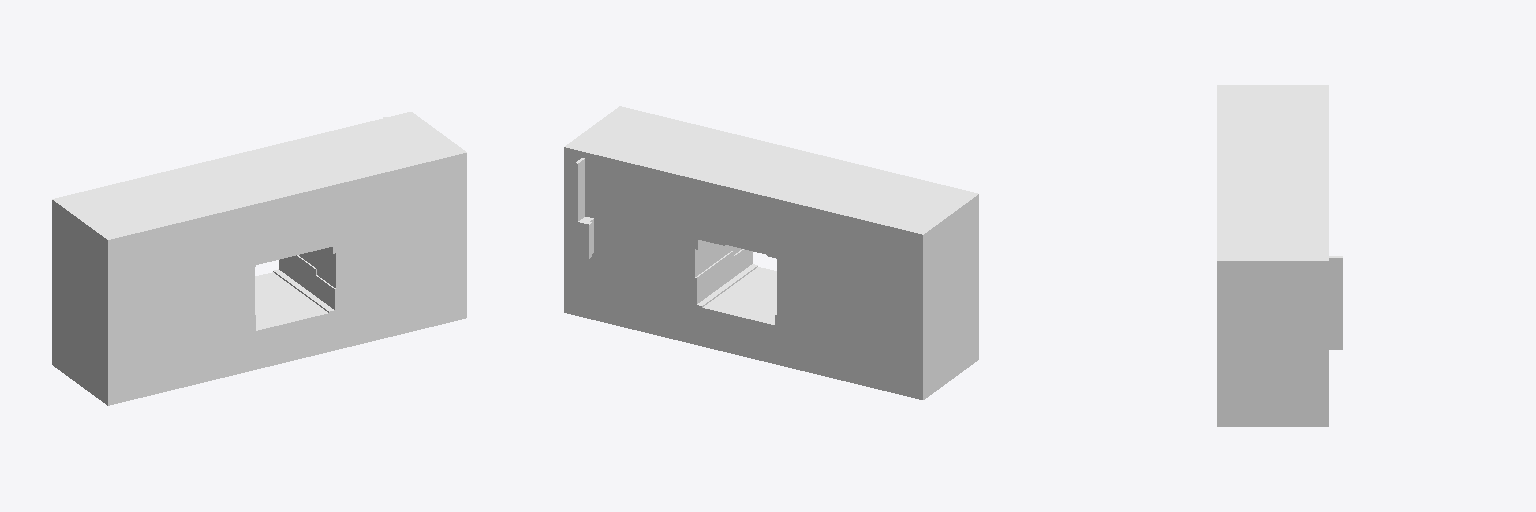
The model's file is BossPlace_.obj.
The picture shows the model from 3 angles: view 1: azimuth 30°, elevation 25°; view 2: azimuth 150°, elevation 25°; view 3: azimuth 270°, elevation 25°; orthographic projection.
Parts seen in each view (by area): view 1: object 1; view 2: object 1; view 3: object 1.
Part boxes in pixels (x1,y1,x2,y2): object 1: (52,112,466,405); object 1: (564,106,978,399); object 1: (1217,85,1342,426).
Size of the model in its own units: 25.2 by 11.1 by 7.7.